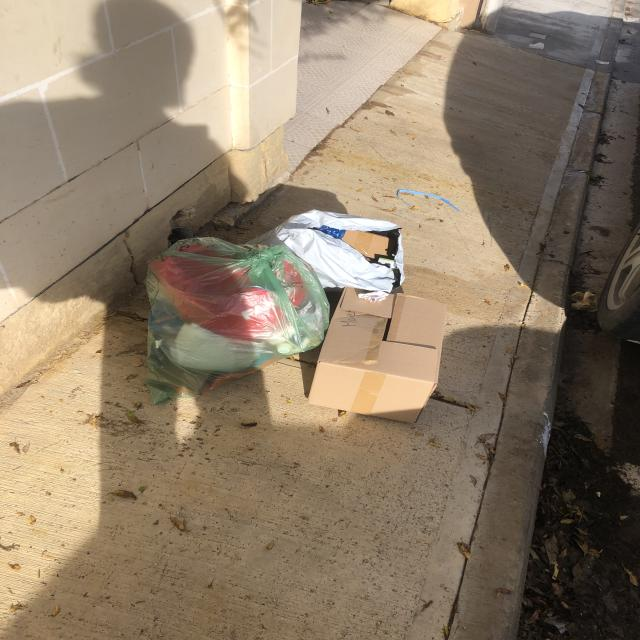Other: (303, 283, 453, 428), (273, 204, 406, 294)
Recycled Waste -Grey or Green Bag-: (139, 235, 336, 416)
